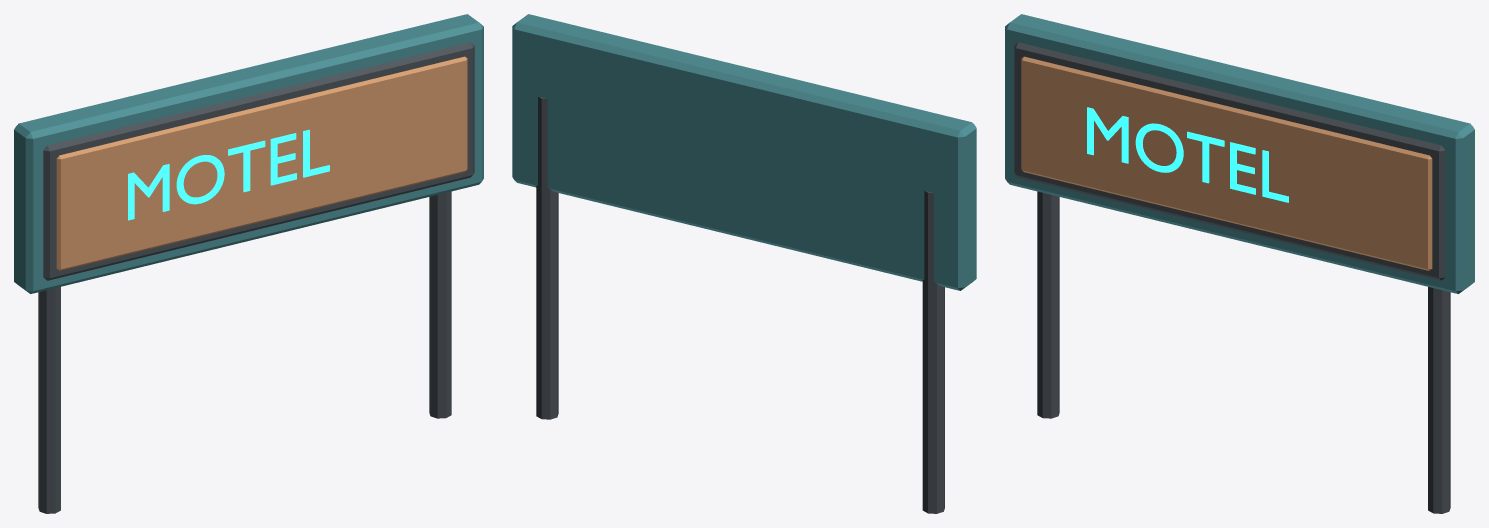
Rendered from dj_motel_sign.glb.
3 views of the same model, side by side, from view 1: azimuth 30°, elevation 25°; view 2: azimuth 150°, elevation 25°; view 3: azimuth 330°, elevation 25° (orthographic).
Parts seen in each view (by area): view 1: Sign_Face, Sign_Backplate, Sign_Rim, Support.001, Support, Lettering_MOTEL; view 2: Sign_Backplate, Support.001, Support; view 3: Sign_Face, Sign_Backplate, Sign_Rim, Support, Support.001, Lettering_MOTEL.
Part boxes in pixels (box(x1,y1,x2,y2)): Sign_Face: box(56, 56, 467, 270); Sign_Backplate: box(14, 14, 483, 293); Sign_Rim: box(43, 42, 474, 280); Support.001: box(429, 191, 451, 418); Support: box(38, 287, 60, 513); Lettering_MOTEL: box(128, 129, 329, 220); Sign_Backplate: box(512, 14, 976, 290); Support.001: box(536, 96, 558, 419); Support: box(922, 191, 944, 513); Sign_Face: box(1021, 56, 1432, 270); Sign_Backplate: box(1005, 14, 1474, 293); Sign_Rim: box(1014, 42, 1445, 280); Support: box(1037, 191, 1059, 418); Support.001: box(1428, 287, 1450, 513); Lettering_MOTEL: box(1087, 107, 1288, 202).
Size of the model in its own units: 3.4 by 2.78 by 0.334.
